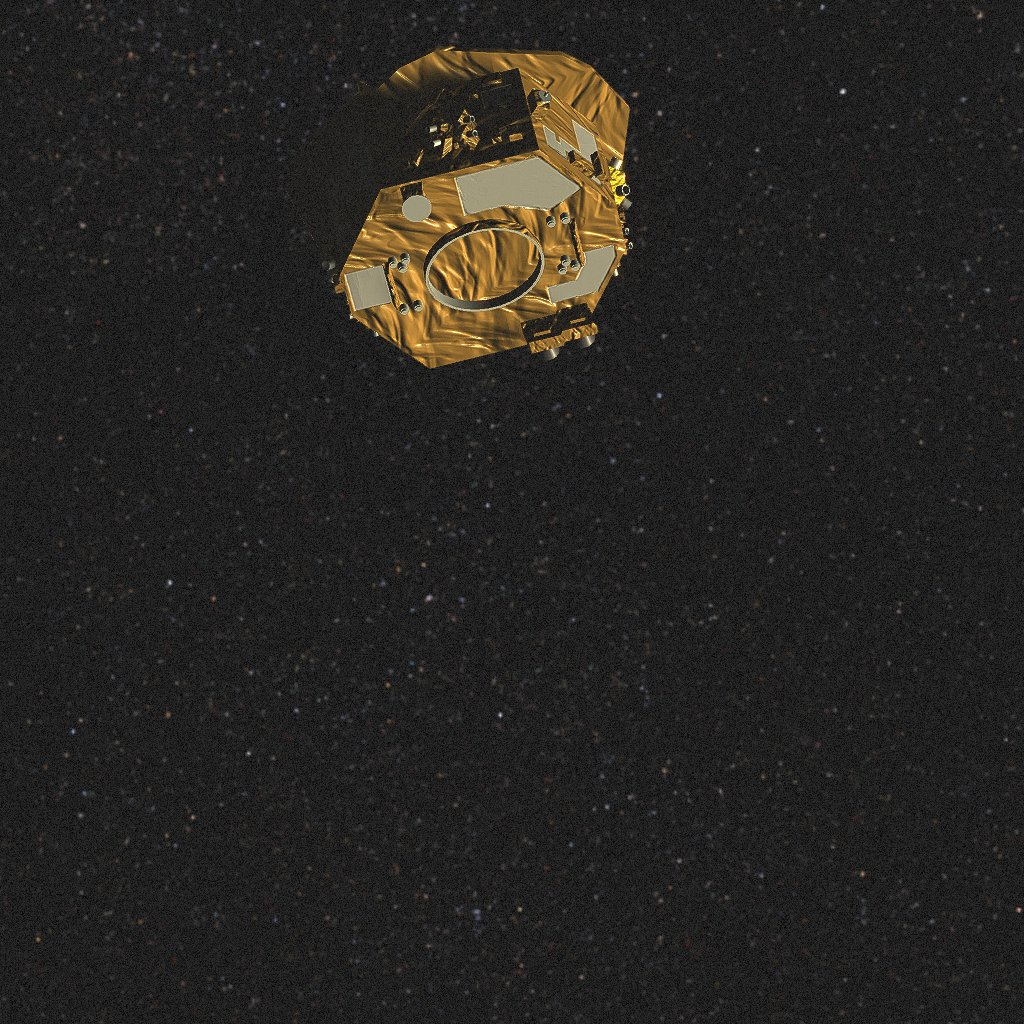lisa_pathfinder: (316, 57, 633, 380)
